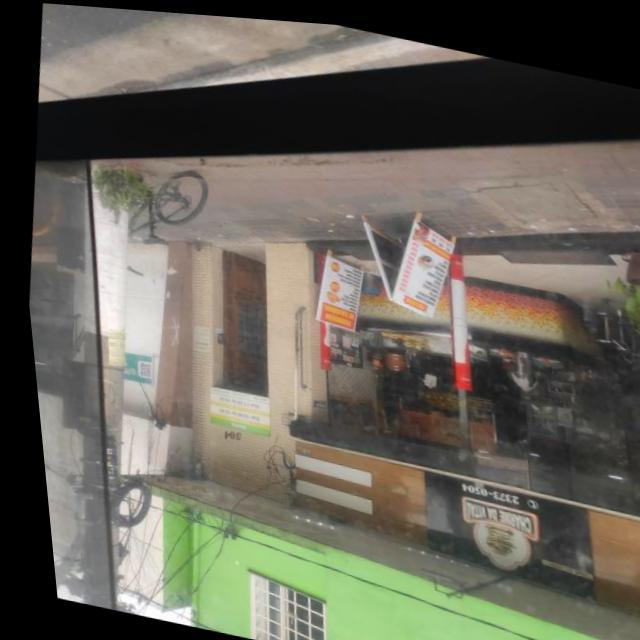qrcode: (131, 361, 144, 375)
